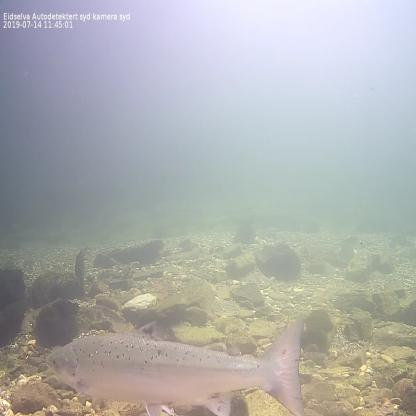salmon: (44, 318, 308, 416)
